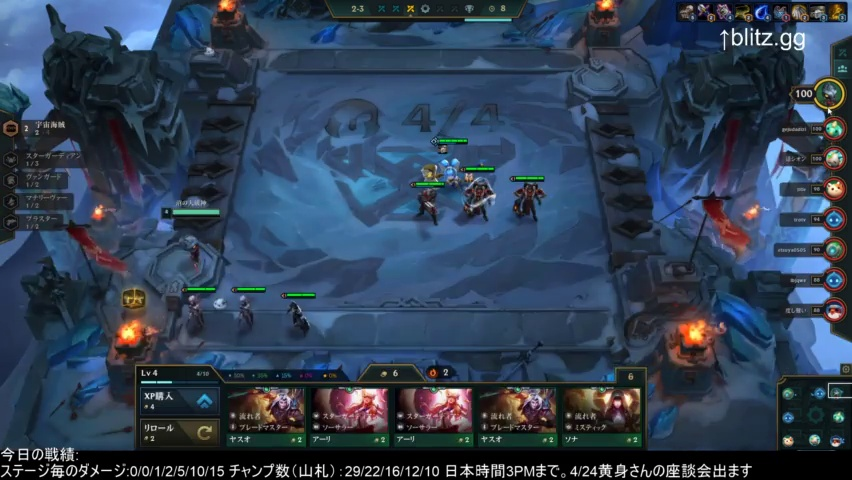:bow: (118, 272, 160, 328)
